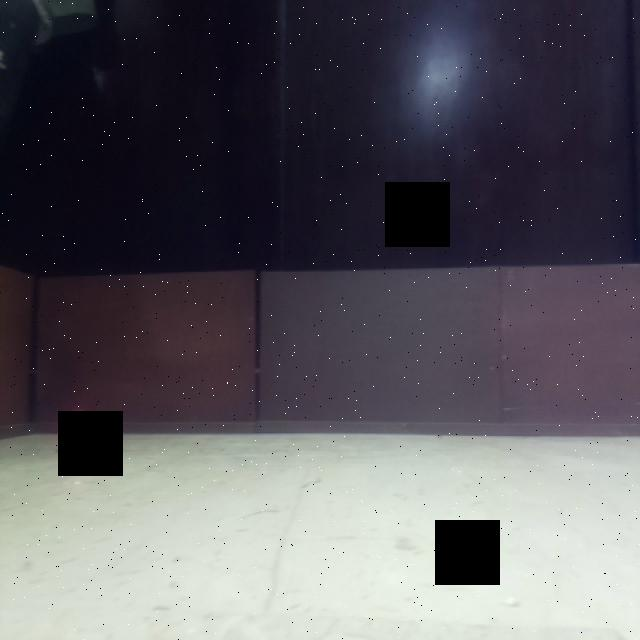ball: (60, 406, 98, 452)
